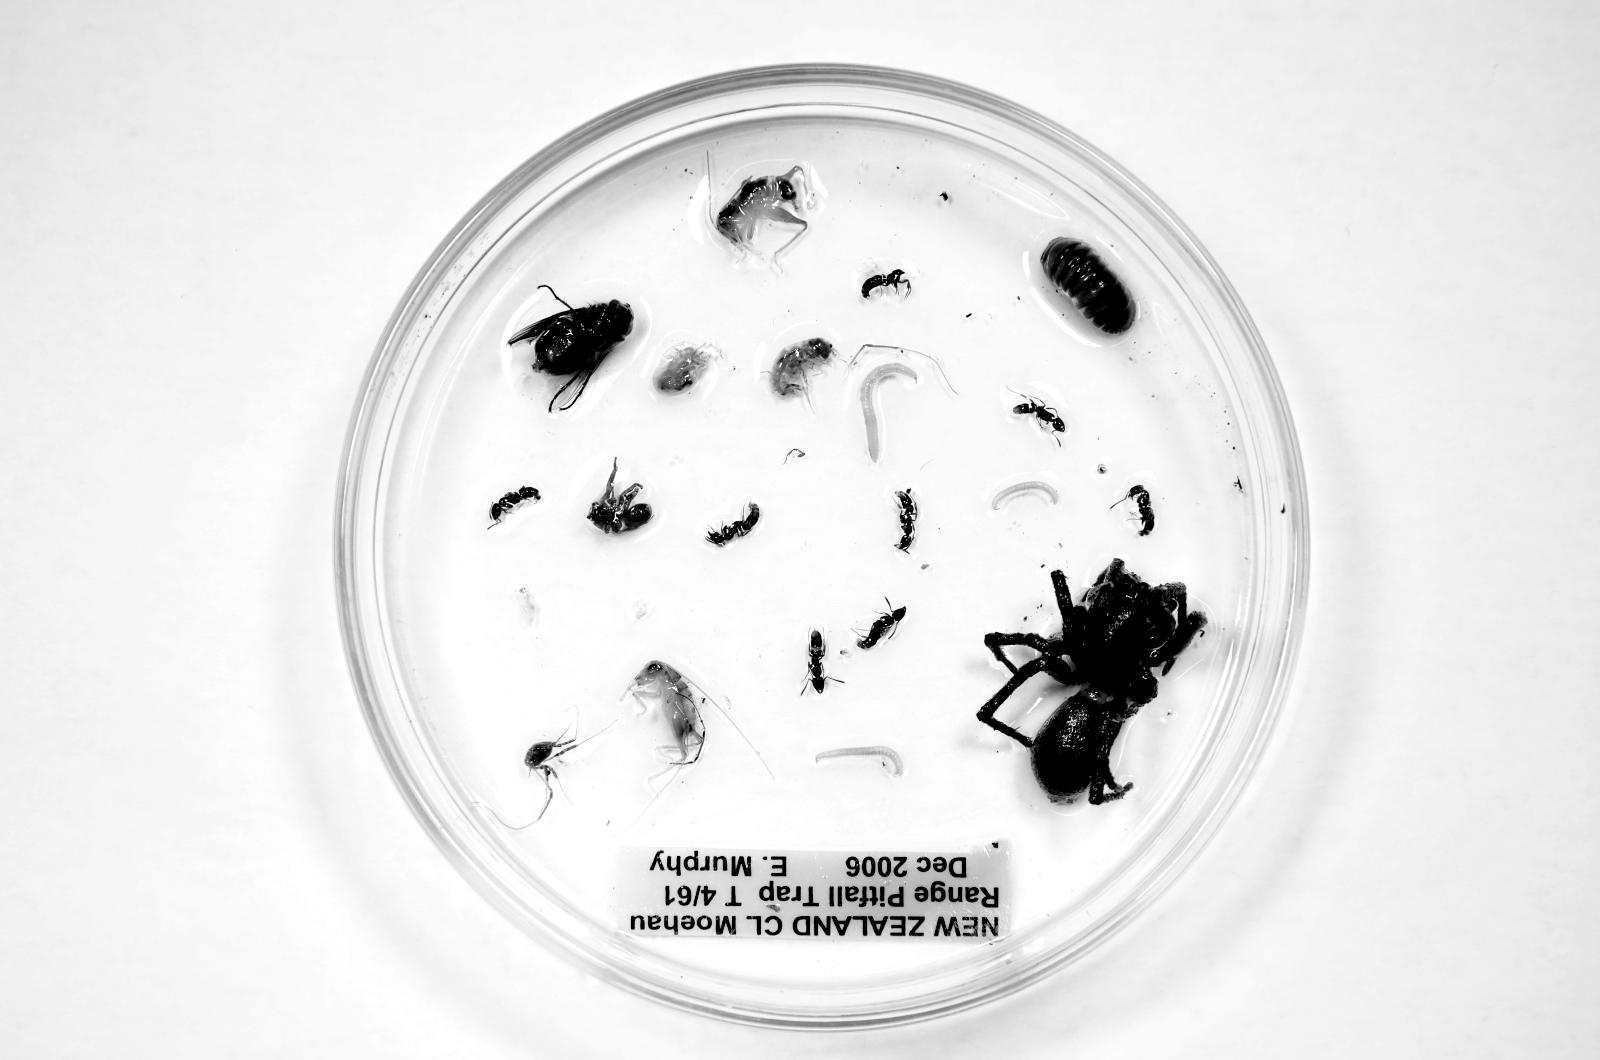amphipoda: (770, 337, 835, 407), (653, 341, 719, 396)
araneae: (977, 558, 1206, 804), (587, 459, 652, 534)
diplopoda: (860, 362, 918, 463), (814, 743, 903, 776), (990, 480, 1058, 510)
diptera: (508, 299, 633, 412)
formicidae: (707, 503, 759, 547), (1012, 395, 1065, 437), (856, 606, 906, 649), (490, 486, 540, 524), (895, 489, 918, 551), (1127, 485, 1154, 536), (808, 628, 828, 693)
isopoda: (1041, 238, 1136, 336)
opiliones: (524, 736, 578, 826)
orthoptera: (715, 166, 808, 260), (627, 661, 705, 765)
